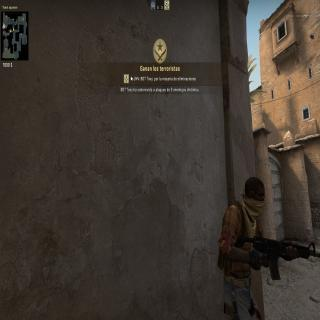T-Head: (240, 171, 266, 224)
